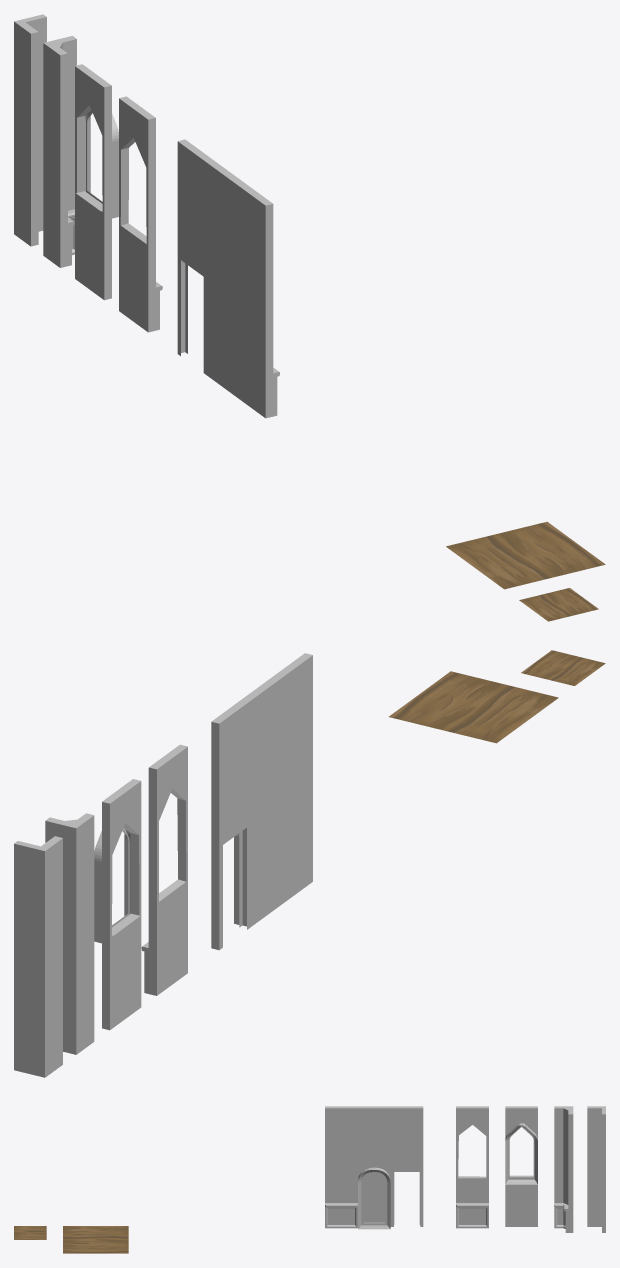
File: ADDigraWalls.fbx
3 views of the same model, one above another, from view 1: azimuth 30°, elevation 25°; view 2: azimuth 150°, elevation 25°; view 3: azimuth 270°, elevation 25° (orthographic). The views are drawn at different scales.
Parts seen in each view (by area): view 1: TallWallBorder, T.CornerWallBorder, TallWallBorderCut, TallWallPlainCut, T.CornerWallPlain, TallWallPlain, Plane, TallWallPlainHole, Plane.001, PointArch; view 2: T.CornerWallPlain, TallWallBorderCut, TallWallPlain, TallWallPlainCut, T.CornerWallBorder, TallWallPlainHole, TallWallBorder, Plane, Plane.001, PointArch; view 3: TallWallBorder, TallWallBorderCut, TallWallPlainHole, T.CornerWallBorder, T.CornerWallPlain, TallWallPlainCut, TallWallPlain, RoundArch, Plane, PointArch, Plane.001.
Part boxes in pixels (x1,y1,x2,y2): TallWallBorder: (236,182,279,418); T.CornerWallBorder: (43,36,76,267); TallWallBorderCut: (119,96,162,332); TallWallPlainCut: (75,64,111,300); T.CornerWallPlain: (14,14,46,246); TallWallPlain: (207,161,243,396); Plane: (446,521,605,589); TallWallPlainHole: (177,139,214,375); Plane.001: (519,588,598,621); PointArch: (84,110,118,218); T.CornerWallPlain: (14,836,62,1077); TallWallBorderCut: (141,744,187,995); TallWallPlain: (242,676,281,926); TallWallPlainCut: (102,779,141,1030); T.CornerWallBorder: (45,813,94,1054); TallWallPlainHole: (211,699,250,950); TallWallBorder: (274,653,312,903); Plane: (389,671,558,743); Plane.001: (521,650,605,685); PointArch: (94,827,130,943); TallWallBorder: (325,1106,357,1228); TallWallBorderCut: (456,1106,488,1228); TallWallPlainHole: (390,1106,423,1226); T.CornerWallBorder: (554,1106,573,1232); T.CornerWallPlain: (587,1106,605,1232); TallWallPlainCut: (505,1106,537,1226); TallWallPlain: (358,1106,390,1179); RoundArch: (358,1167,390,1229); Plane: (63,1226,128,1253); PointArch: (505,1123,537,1184); Plane.001: (14,1226,46,1239).
Bounding box in the file's own units: 420 × 801 × 3615.
